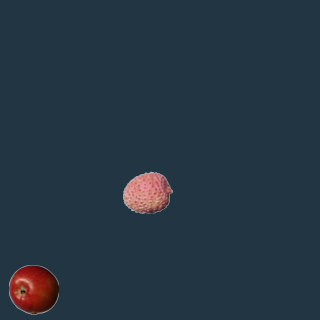Apple Braeburn: (8, 264, 58, 314)
Lychee: (122, 167, 172, 217)
